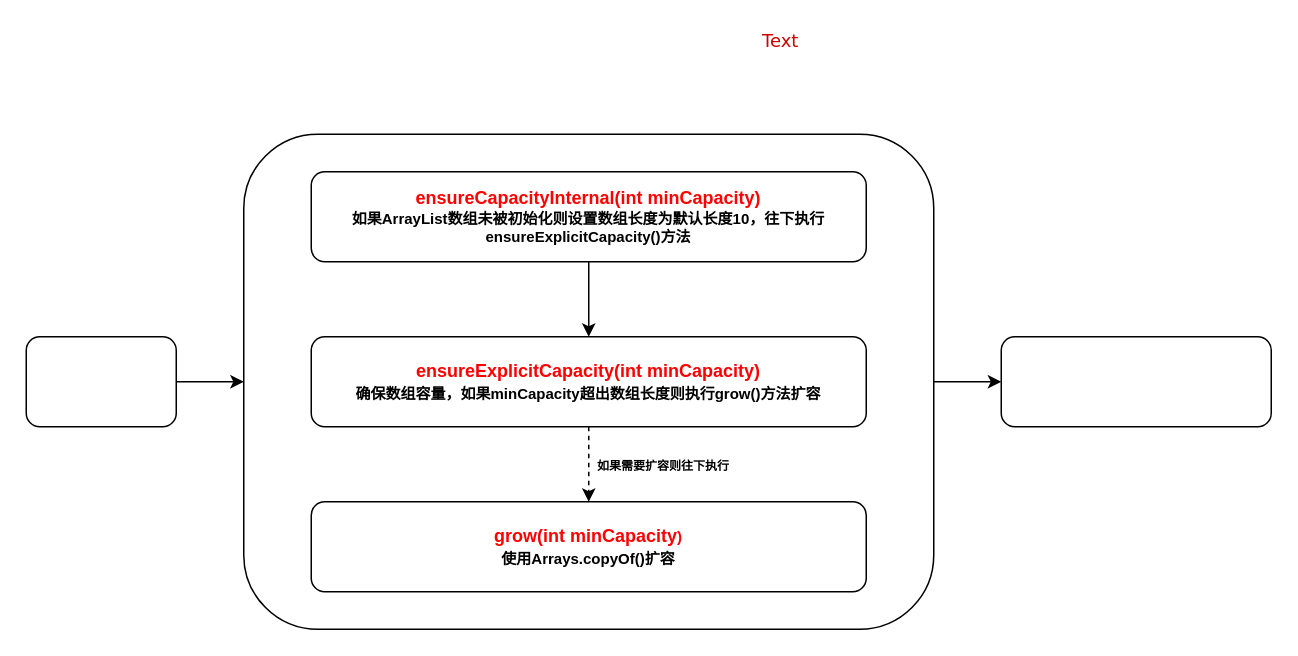
Some shapes in this 1298 by 656 pixel diagram are drawn without their labels. The shapes that lost their labels are listed below. From the top down, each one's centre as x and y in pixels, then its label:
At point (100, 381): "add(E e)".
At point (1135, 381): "elementData [ size ++] = e".
